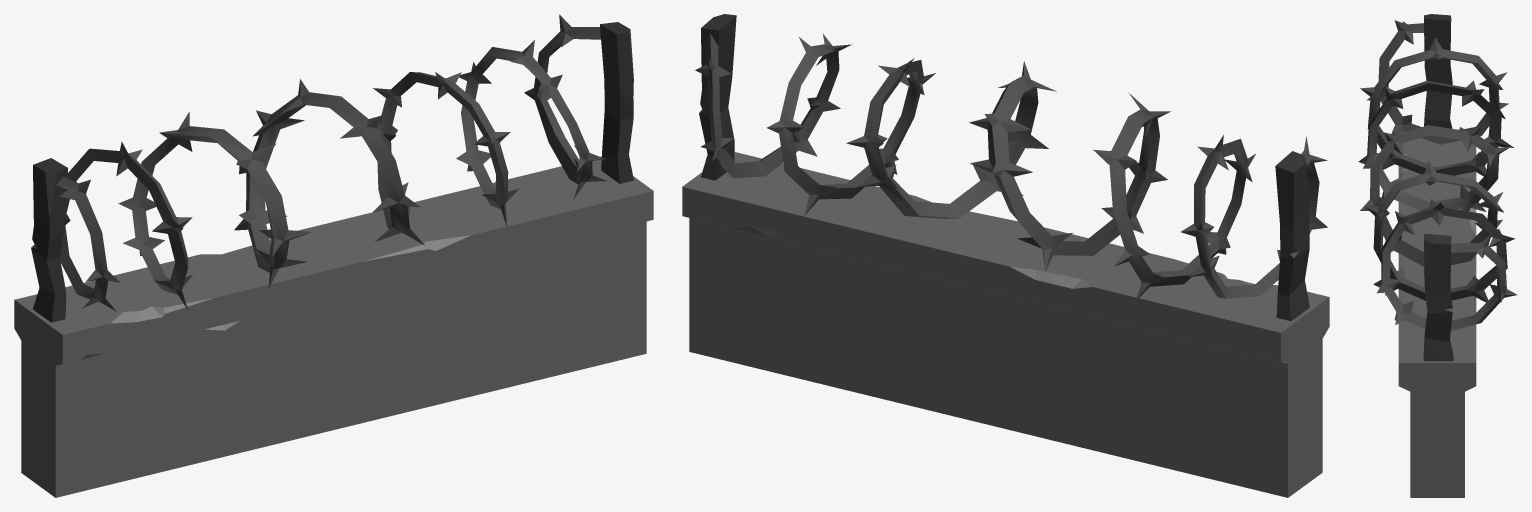
Rendered from 20C_IronFence_100.fbx.
3 renders of one model, left to right at view 1: azimuth 30°, elevation 25°; view 2: azimuth 150°, elevation 25°; view 3: azimuth 270°, elevation 25°, orthographic. The views are drawn at different scales.
Parts seen in each view (by area): view 1: 20C_IronFence_100; view 2: 20C_IronFence_100; view 3: 20C_IronFence_100.
Part boxes in pixels (bbox=[...]): 20C_IronFence_100: bbox=[14, 14, 653, 497]; 20C_IronFence_100: bbox=[682, 14, 1329, 497]; 20C_IronFence_100: bbox=[1358, 14, 1517, 497].
Bounding box in the file's own units: 40.06 × 21.04 × 11.65.
